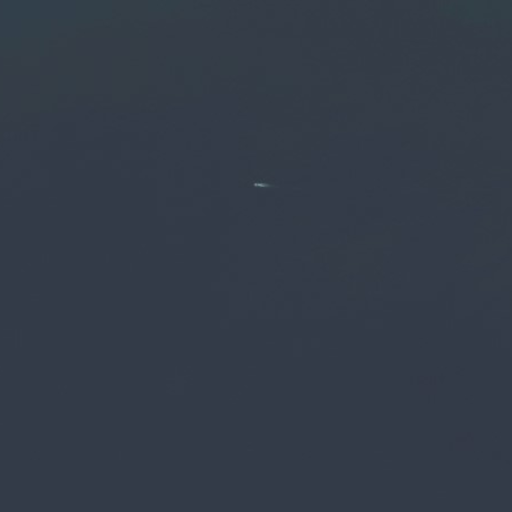ship: (253, 180, 269, 191)
